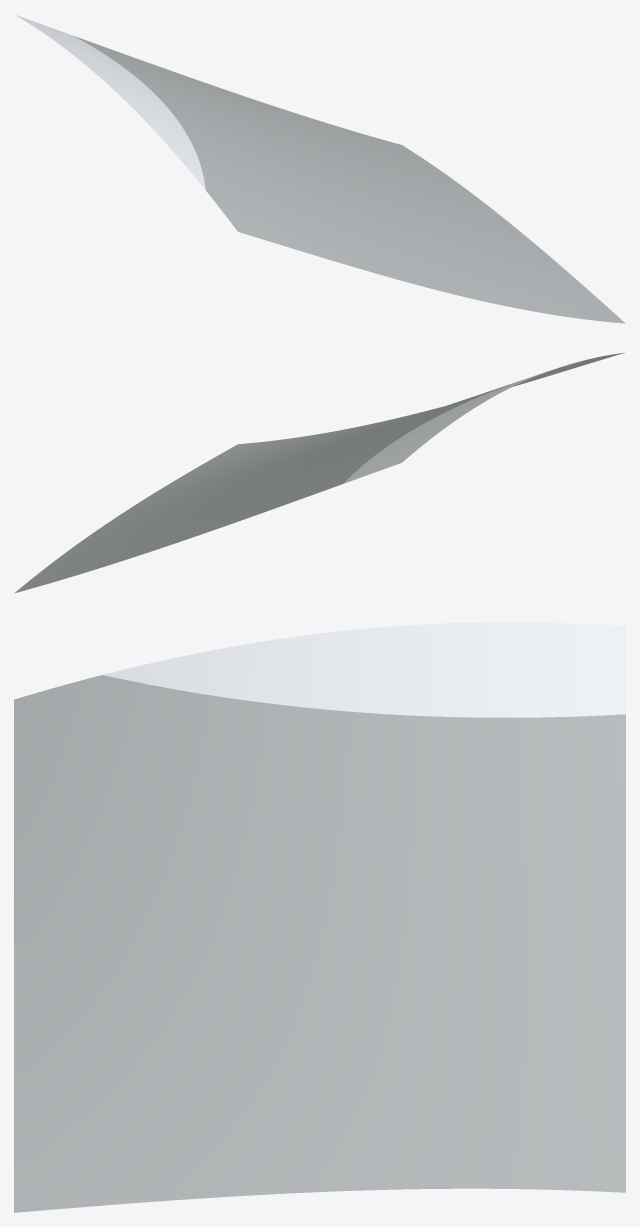
The model's file is alpine-10-7.glb.
3 renders of one model, top to bottom at view 1: azimuth 30°, elevation 25°; view 2: azimuth 150°, elevation 25°; view 3: azimuth 270°, elevation 25°, orthographic. The views are drawn at different scales.
Parts seen in each view (by area): view 1: alpine-10-7; view 2: alpine-10-7; view 3: alpine-10-7.
Part boxes in pixels (x1,y1,x2,y2): alpine-10-7: [15, 15, 625, 323]; alpine-10-7: [14, 352, 624, 593]; alpine-10-7: [14, 622, 625, 1212].
Size of the model in its own units: 256 by 153 by 256.
2 materials, 2 textured.
